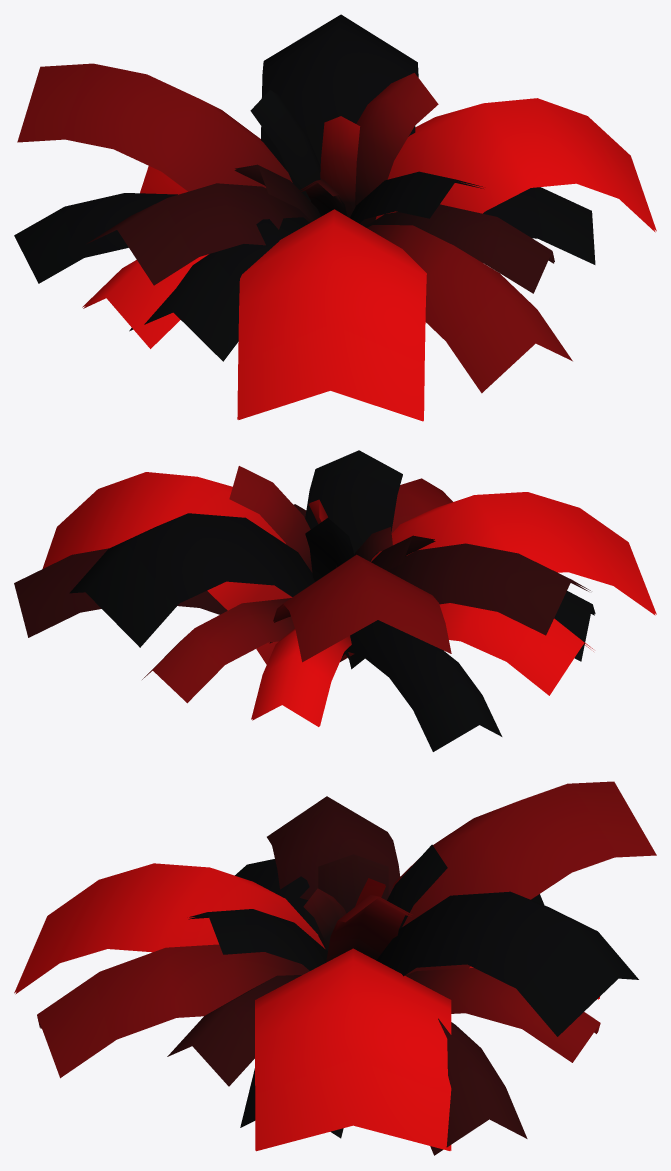
The model's file is Fern01_AFS_high.FBX.
3 renders of one model, top to bottom at view 1: azimuth 30°, elevation 25°; view 2: azimuth 150°, elevation 25°; view 3: azimuth 270°, elevation 25°, orthographic. The views are drawn at different scales.
Parts seen in each view (by area): view 1: Fern01_AFS_high; view 2: Fern01_AFS_high; view 3: Fern01_AFS_high.
Part boxes in pixels (x1,y1,x2,y2): Fern01_AFS_high: (14,14,656,421); Fern01_AFS_high: (14,450,656,751); Fern01_AFS_high: (14,781,656,1155).
Size of the model in its own units: 1.39 by 0.4452 by 1.41.
